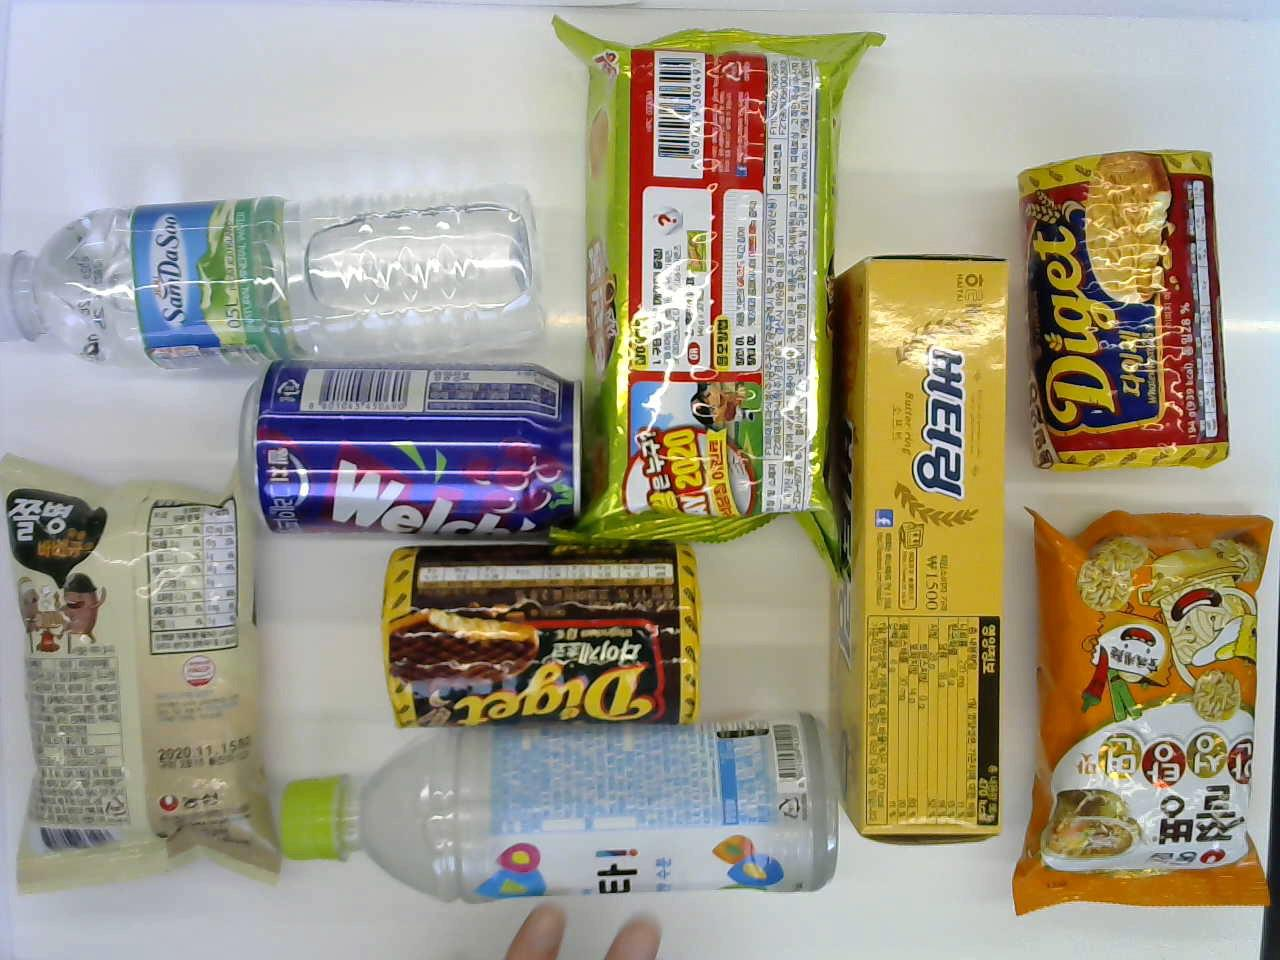buttering: (840, 251, 1012, 865)
diget_choco: (367, 541, 718, 737)
diget_ori: (1024, 136, 1236, 466)
homerunball: (550, 18, 861, 533)
jjolbyung_noodle: (1021, 494, 1257, 905)
jjolbyung_ori: (4, 451, 282, 883)
samdasu: (0, 167, 547, 375)
toreta: (288, 710, 826, 902)
welchs: (239, 362, 597, 532)
